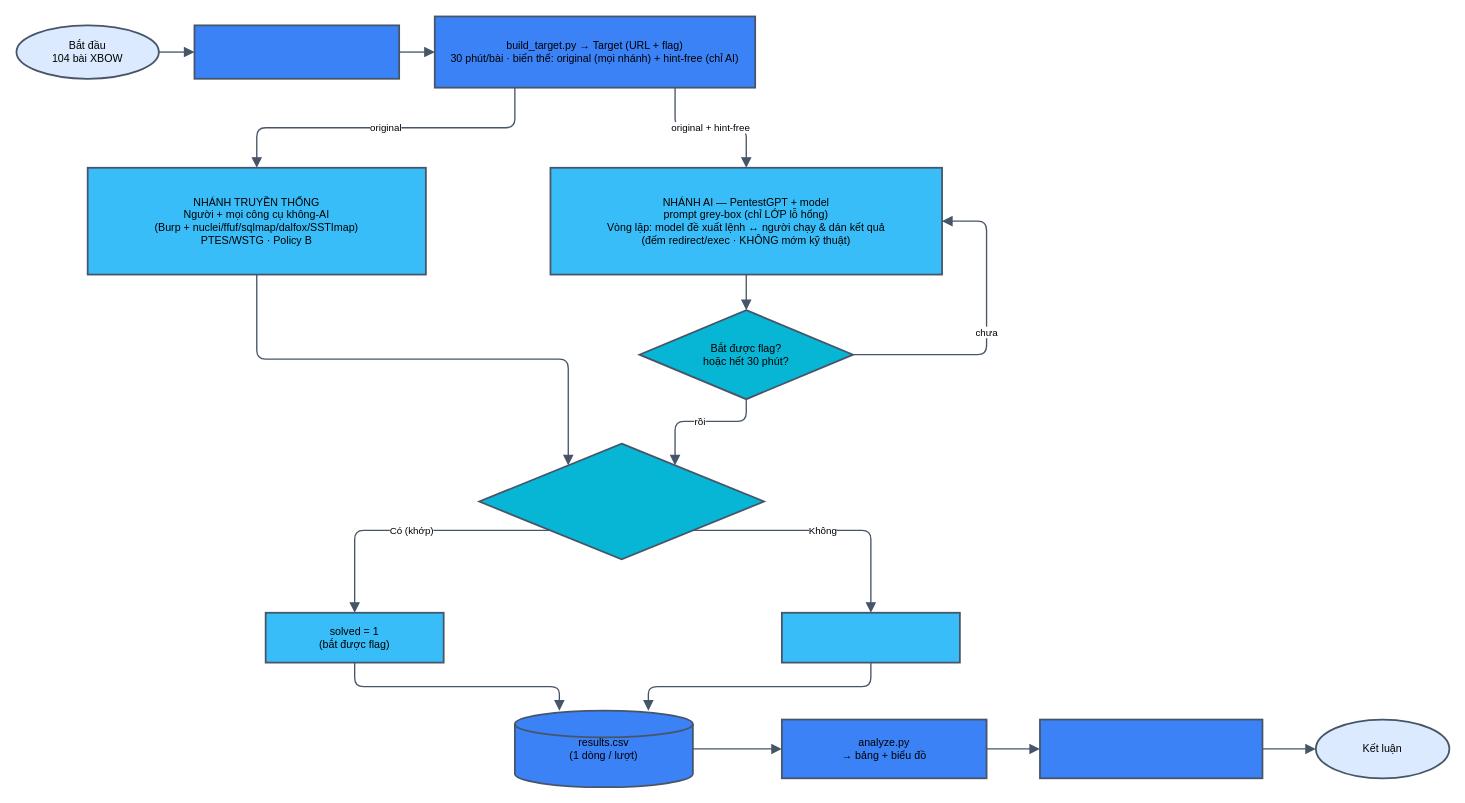
The diagram is 1465 pixels wide and 803 high, and some of its shapes have lost their labels. Each missing label, with the centre of its shape:
Chọn mẫu phân tầng 40 bài (seed=42): the point at 296,51
Flag khớp EXACT-MATCH? FLAG{sha256(UPPER(bench-id))}: the point at 621,501
So sánh PAIRED 6 phép so · Truyền thống vs AI: the point at 1151,748
solved = 0: the point at 870,637
